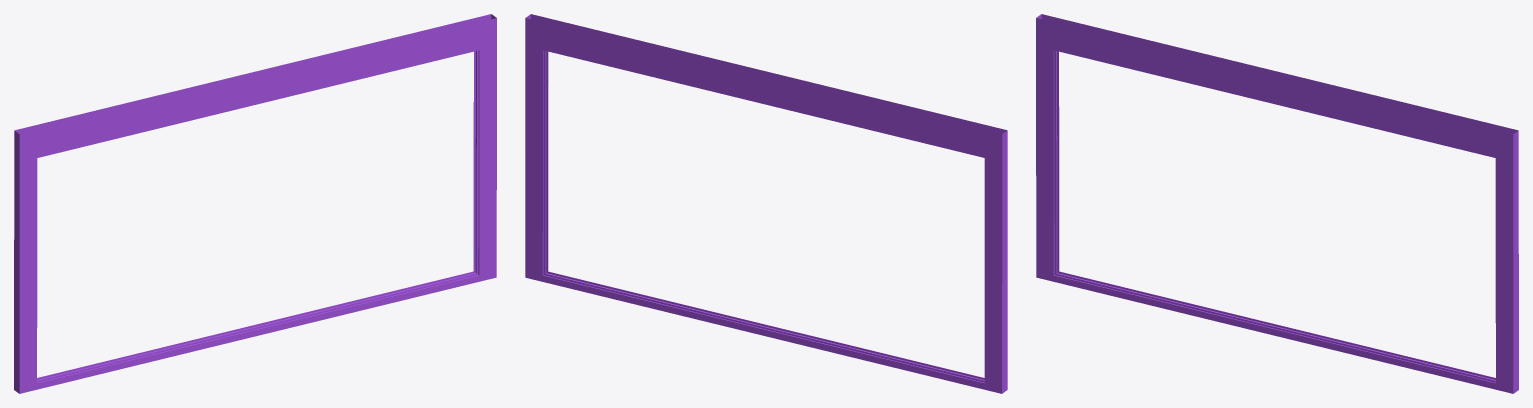
The model's file is Slider_Frame.FBX.
3 renders of one model, left to right at view 1: azimuth 30°, elevation 25°; view 2: azimuth 150°, elevation 25°; view 3: azimuth 330°, elevation 25°, orthographic.
Parts seen in each view (by area): view 1: Slider_Frame; view 2: Slider_Frame; view 3: Slider_Frame.
Boxes of the visible parts, x1,y1,x2,y2 form: Slider_Frame: (14,14,496,393); Slider_Frame: (525,14,1007,393); Slider_Frame: (1036,14,1518,393).
Size of the model in its own units: 9.68 by 5.03 by 0.2003.
